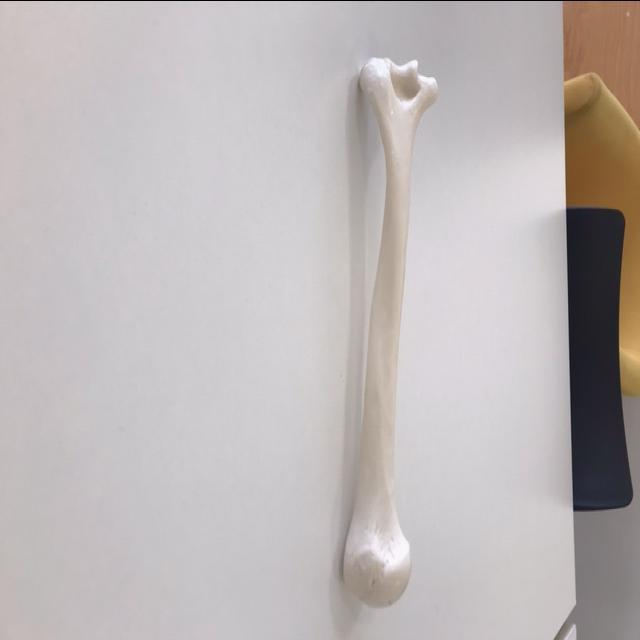bone: (340, 48, 446, 610)
